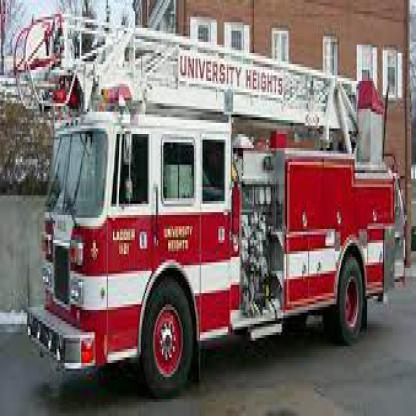fire-truck: (25, 24, 412, 415)
